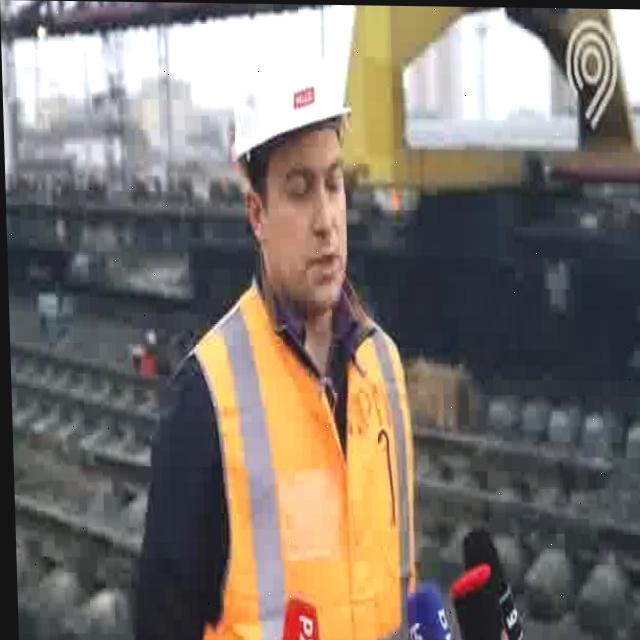Helmet: (225, 58, 352, 162), (402, 588, 450, 640)
Safety-Boot: (442, 524, 523, 640)
Safety-Vest: (183, 280, 414, 640)
